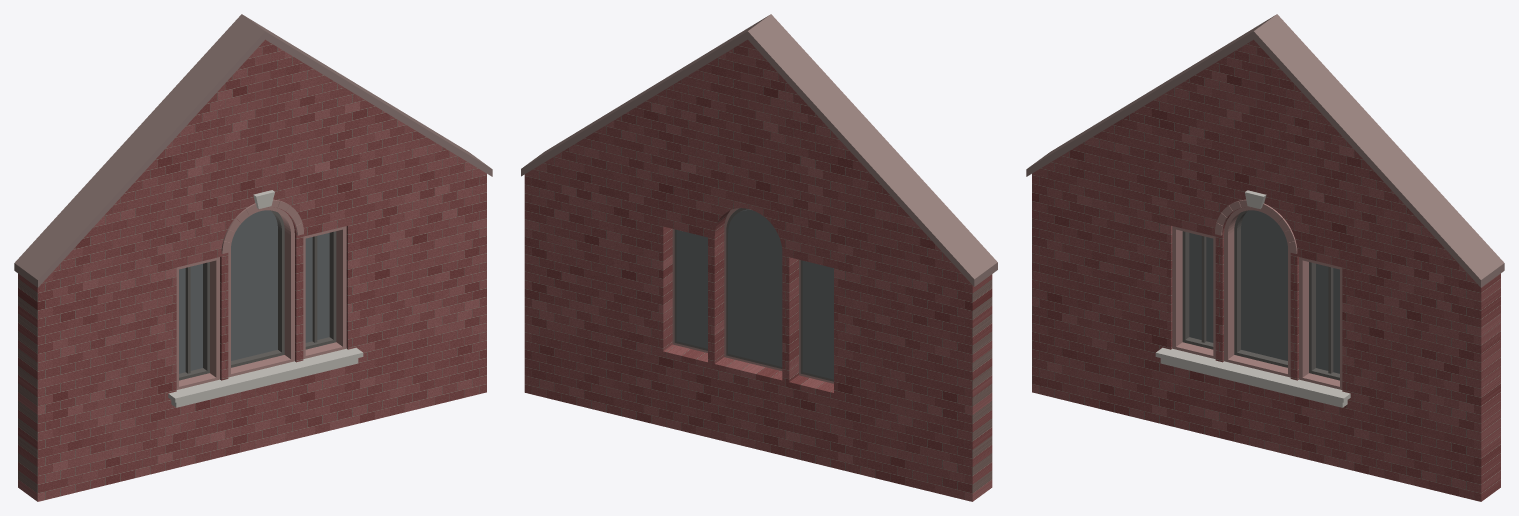
Rendered from nie-garden-triple-attic-light-near.glb.
3 views of the same model, side by side, from view 1: azimuth 30°, elevation 25°; view 2: azimuth 150°, elevation 25°; view 3: azimuth 330°, elevation 25° (orthographic).
Visible parts, largest first — view 1: 聂家花园高山墙三联窗与拱顶楔石; view 2: 聂家花园高山墙三联窗与拱顶楔石; view 3: 聂家花园高山墙三联窗与拱顶楔石.
Boxes of the visible parts, x1,y1,x2,y2 form: 聂家花园高山墙三联窗与拱顶楔石: [14, 14, 492, 501]; 聂家花园高山墙三联窗与拱顶楔石: [521, 14, 997, 501]; 聂家花园高山墙三联窗与拱顶楔石: [1026, 14, 1504, 501].
Size of the model in its own units: 3.38 by 2.97 by 0.354.
Materials: 6 (1 with a texture image).
